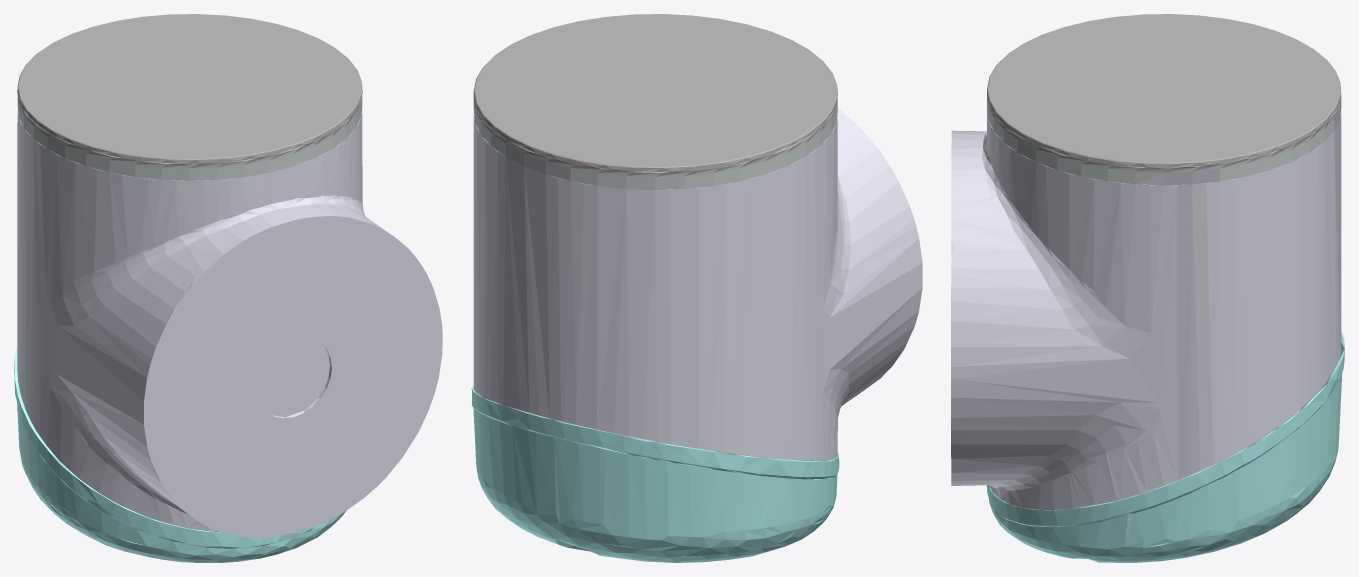
The picture shows the model from 3 angles, left to right: view 1: azimuth 30°, elevation 25°; view 2: azimuth 150°, elevation 25°; view 3: azimuth 270°, elevation 25°; orthographic projection. The views are drawn at different scales.
Parts seen in each view (by area): view 1: UR10Link4; view 2: UR10Link4; view 3: UR10Link4.
Part boxes in pixels (left/top/right/bottom): UR10Link4: left=14, top=14, right=442, bottom=562; UR10Link4: left=471, top=14, right=922, bottom=562; UR10Link4: left=951, top=14, right=1344, bottom=562.
Bounding box in the file's own units: 0.091 × 0.1 × 0.1187.
